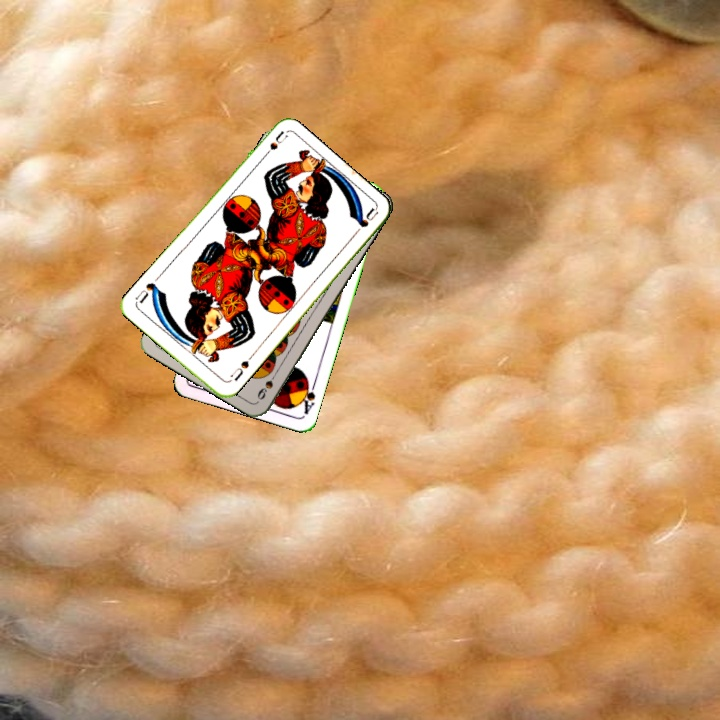S9: (253, 366, 281, 403)
SA: (296, 375, 318, 417)
SU: (257, 128, 290, 163), (227, 356, 252, 383)
